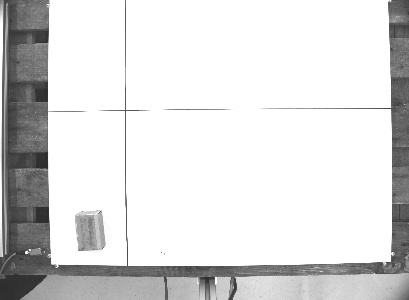b1: (73, 208, 107, 252)
